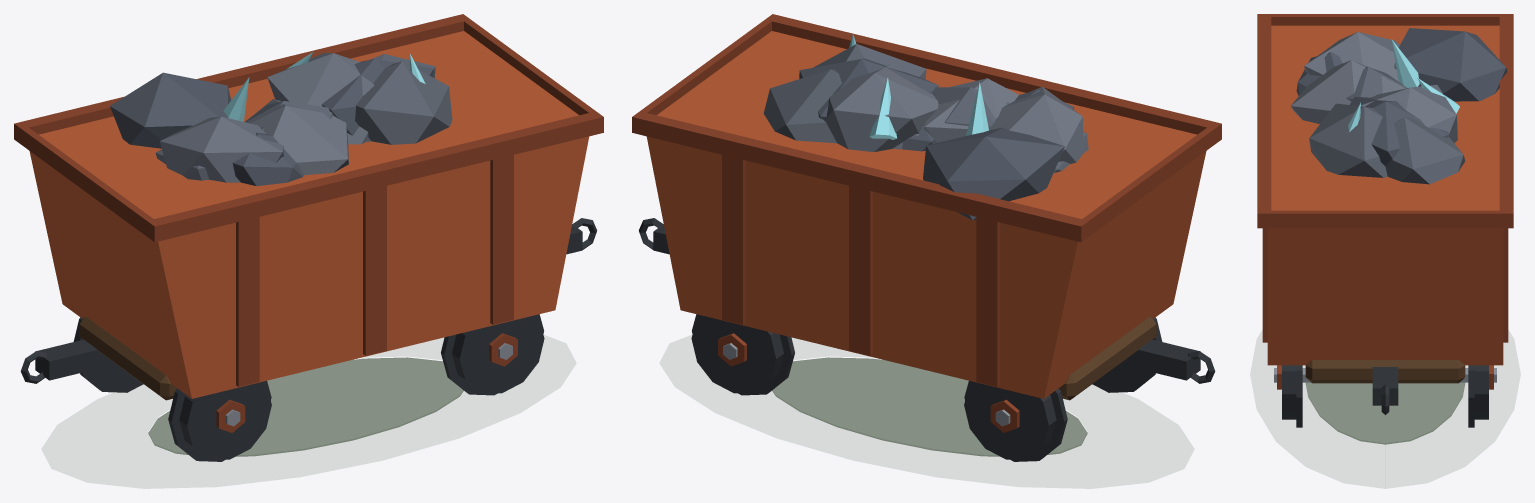
File: minecart.glb
3 views of the same model, side by side, from view 1: azimuth 30°, elevation 25°; view 2: azimuth 150°, elevation 25°; view 3: azimuth 270°, elevation 25° (orthographic). The views are drawn at different scales.
Parts seen in each view (by area): view 1: minecart; view 2: minecart; view 3: minecart.
Boxes of the visible parts, box(x1,y1,x2,y2) form: minecart: box(14, 14, 603, 461); minecart: box(632, 14, 1221, 461); minecart: box(1257, 14, 1513, 488).
Size of the model in its own units: 1.9 by 1.08 by 0.85.
